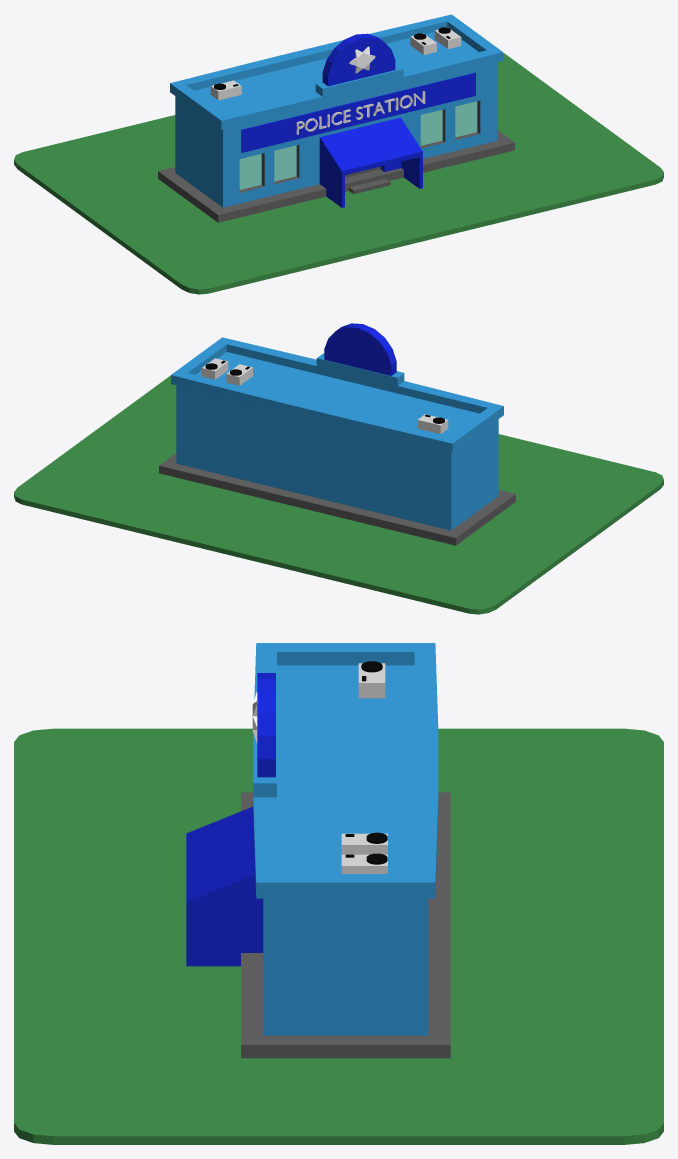
Rendered from police_station.fbx.
The picture shows the model from 3 angles, top to bottom: view 1: azimuth 30°, elevation 25°; view 2: azimuth 150°, elevation 25°; view 3: azimuth 270°, elevation 25°; orthographic projection. The views are drawn at different scales.
Visible parts, largest first — view 1: Plane.001, Cube.011, Cube.018, Cube.025, Cylinder.004, Text; view 2: Plane.001, Cube.011, Cylinder.004; view 3: Plane.001, Cube.011, Cube.018, Cylinder.004, Cube.012, Cube.016, Cube.014.
Boxes of the visible parts, x1,y1,x2,y2 form: Plane.001: (14, 52, 663, 294); Cube.011: (158, 14, 514, 222); Cube.018: (319, 117, 422, 207); Cube.025: (241, 72, 475, 152); Cylinder.004: (322, 33, 395, 86); Text: (296, 91, 425, 134); Plane.001: (14, 375, 663, 614); Cube.011: (159, 337, 515, 545); Cylinder.004: (324, 323, 396, 375); Plane.001: (14, 728, 663, 1144); Cube.011: (241, 643, 450, 1058); Cube.018: (186, 806, 263, 966); Cylinder.004: (257, 673, 275, 777); Cube.012: (358, 663, 385, 698); Cube.016: (341, 833, 387, 854); Cube.014: (341, 854, 387, 873).
Size of the model in its own units: 51.6 by 15.43 by 34.78.
